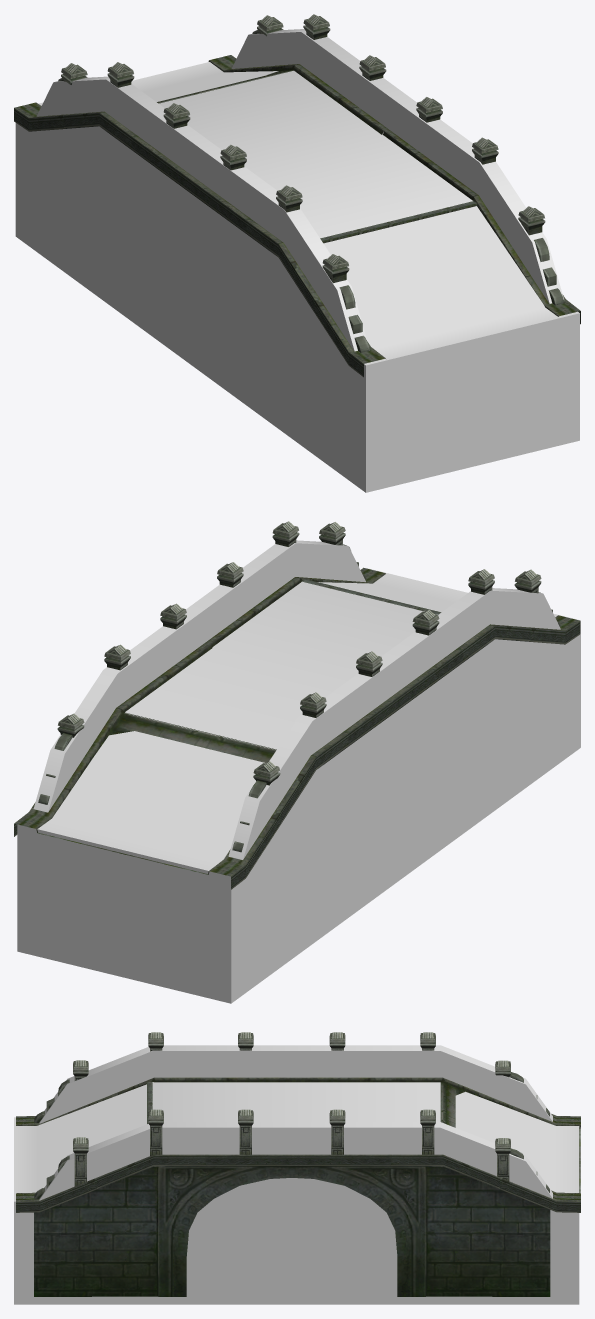
File: YHJ_shiqiao.FBX
3 renders of one model, top to bottom at view 1: azimuth 30°, elevation 25°; view 2: azimuth 150°, elevation 25°; view 3: azimuth 270°, elevation 25°, orthographic. The views are drawn at different scales.
Visible parts, largest first — view 1: YHJ_shiqiao-col, YHJ_shiqiao; view 2: YHJ_shiqiao-col, YHJ_shiqiao; view 3: YHJ_shiqiao-col, YHJ_shiqiao.
Part boxes in pixels (bbox=[...]): YHJ_shiqiao-col: bbox=[15, 29, 579, 492]; YHJ_shiqiao: bbox=[14, 14, 580, 377]; YHJ_shiqiao-col: bbox=[17, 540, 580, 1003]; YHJ_shiqiao: bbox=[14, 521, 580, 889]; YHJ_shiqiao-col: bbox=[14, 1045, 579, 1304]; YHJ_shiqiao: bbox=[16, 1032, 580, 1296].
Size of the model in its own units: 3.31 by 3.47 by 9.26.
